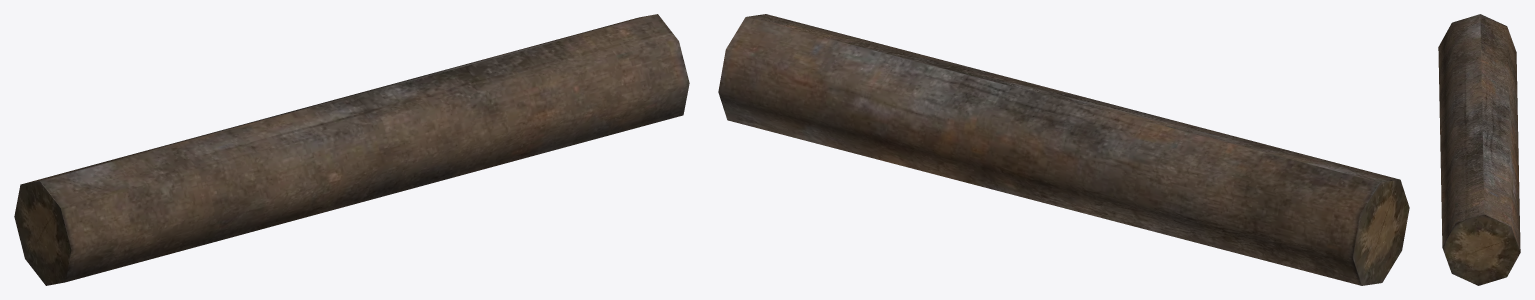
The picture shows the model from 3 angles, left to right: view 1: azimuth 30°, elevation 25°; view 2: azimuth 150°, elevation 25°; view 3: azimuth 270°, elevation 25°; orthographic projection. The views are drawn at different scales.
Parts seen in each view (by area): view 1: SW_A_lo; view 2: SW_A_lo; view 3: SW_A_lo.
Part boxes in pixels (<box>): SW_A_lo: <box>14,14,689,285</box>; SW_A_lo: <box>718,14,1409,285</box>; SW_A_lo: <box>1438,14,1520,285</box>.
Bounding box in the file's own units: 1.27 × 0.2256 × 0.2096.
Materials: 1 (1 with a texture image).
